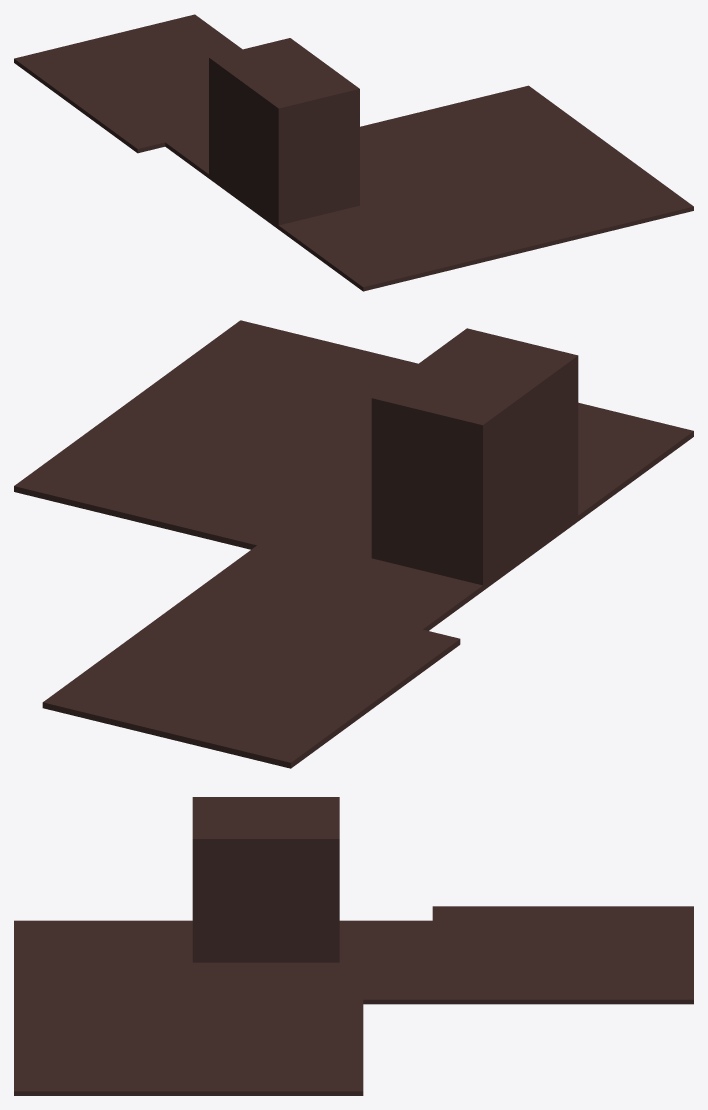
The model's file is M_CeilingUp.fbx.
3 renders of one model, top to bottom at view 1: azimuth 30°, elevation 25°; view 2: azimuth 150°, elevation 25°; view 3: azimuth 270°, elevation 25°, orthographic. The views are drawn at different scales.
Parts seen in each view (by area): view 1: Ceiling_Up; view 2: Ceiling_Up; view 3: Ceiling_Up.
Boxes of the visible parts, left/top/right/bottom form: Ceiling_Up: left=14, top=14, right=693, bottom=291; Ceiling_Up: left=14, top=320, right=693, bottom=768; Ceiling_Up: left=14, top=797, right=693, bottom=1095.
Bounding box in the file's own units: 882 × 285 × 1371.
